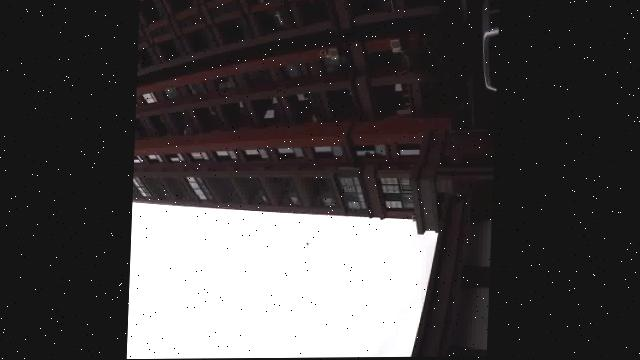drone: (304, 238, 314, 248)
